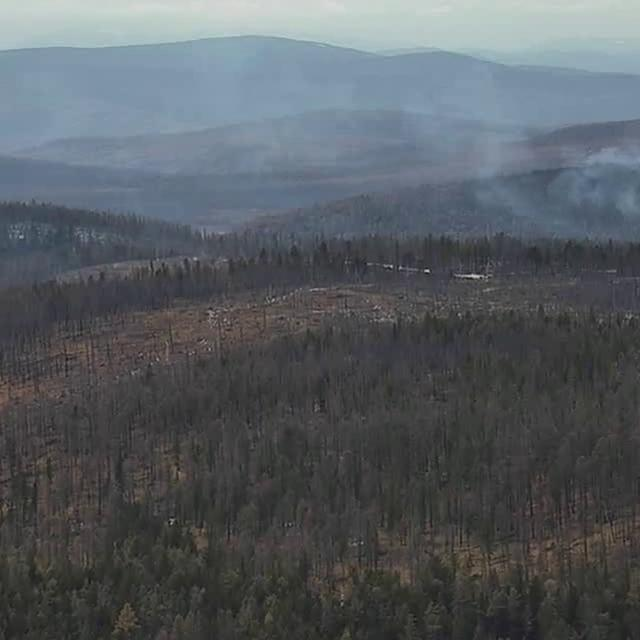Smoke: (0, 94, 639, 278)
